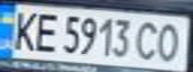1: (96, 15, 115, 57)
3: (112, 16, 136, 60)
5: (57, 12, 81, 55)
9: (75, 14, 100, 56)
C: (133, 18, 163, 62)
E: (30, 9, 63, 54)
K: (6, 7, 42, 52)
O: (151, 19, 187, 64)
